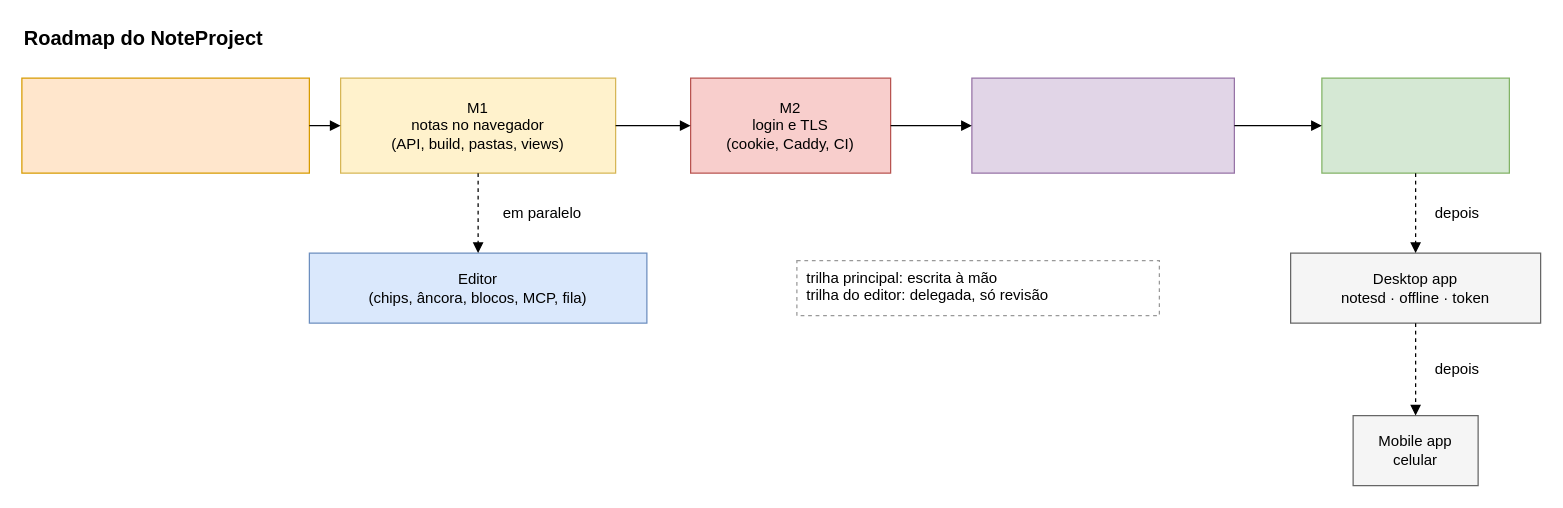
Some shapes in this 1563 by 508 pixel diagram are drawn without their labels. Here are the shapes that lost their labels. From the top down, the box of each, then its label:
(21, 77, 309, 173): M0 esqueleto do servidor (FastAPI, compose, Postgres)
(971, 77, 1234, 173): M3 no ar na AWS (Terraform, CI/CD, backup)
(1321, 77, 1509, 173): M4 edição ao vivo (WebSocket + Yjs)
